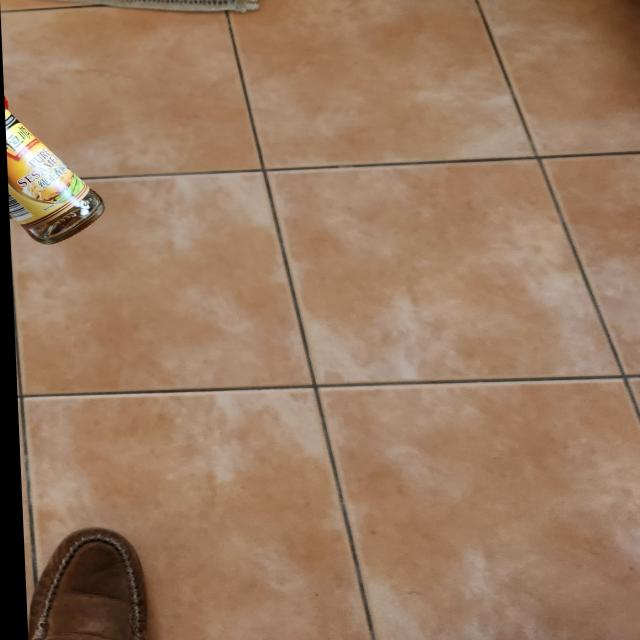sesame oil: (0, 1, 106, 250)
